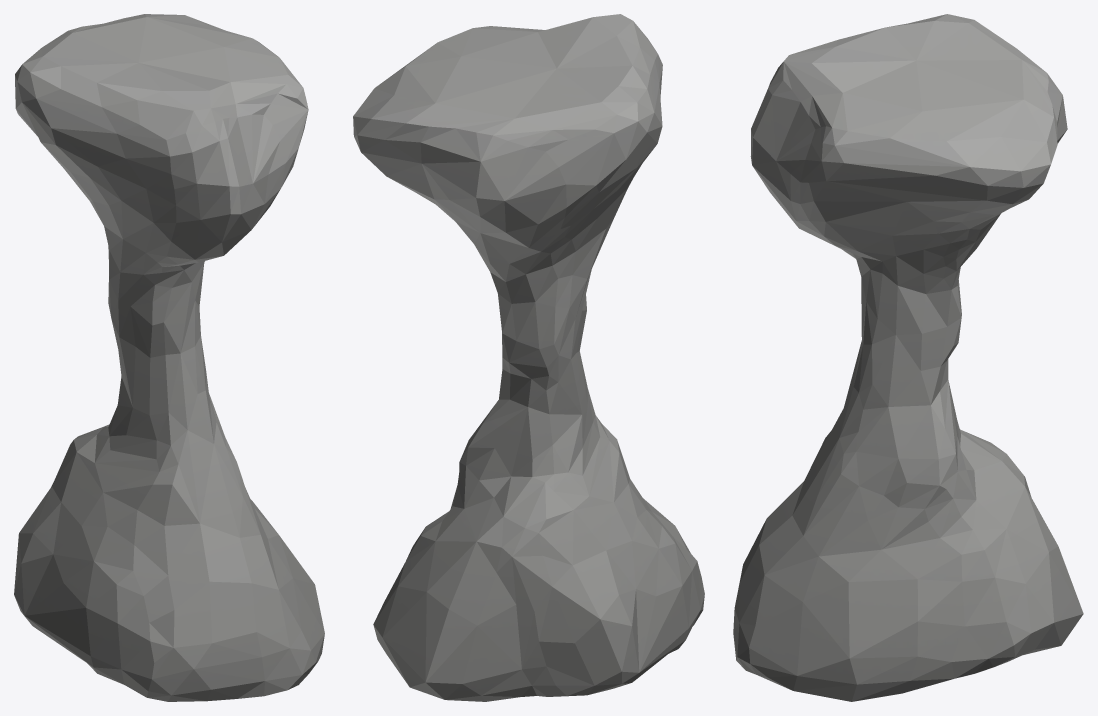
File: Cavern_Pillar-03.fbx
3 renders of one model, left to right at view 1: azimuth 30°, elevation 25°; view 2: azimuth 150°, elevation 25°; view 3: azimuth 270°, elevation 25°, orthographic. The views are drawn at different scales.
Visible parts, largest first — view 1: Cavern_Pillar-03; view 2: Cavern_Pillar-03; view 3: Cavern_Pillar-03.
Part boxes in pixels (x1,y1,x2,y2): Cavern_Pillar-03: (14,14,324,701); Cavern_Pillar-03: (353,14,704,701); Cavern_Pillar-03: (733,14,1083,701).
Bounding box in the file's own units: 603 × 1349 × 738.
1 material, 1 textured.
